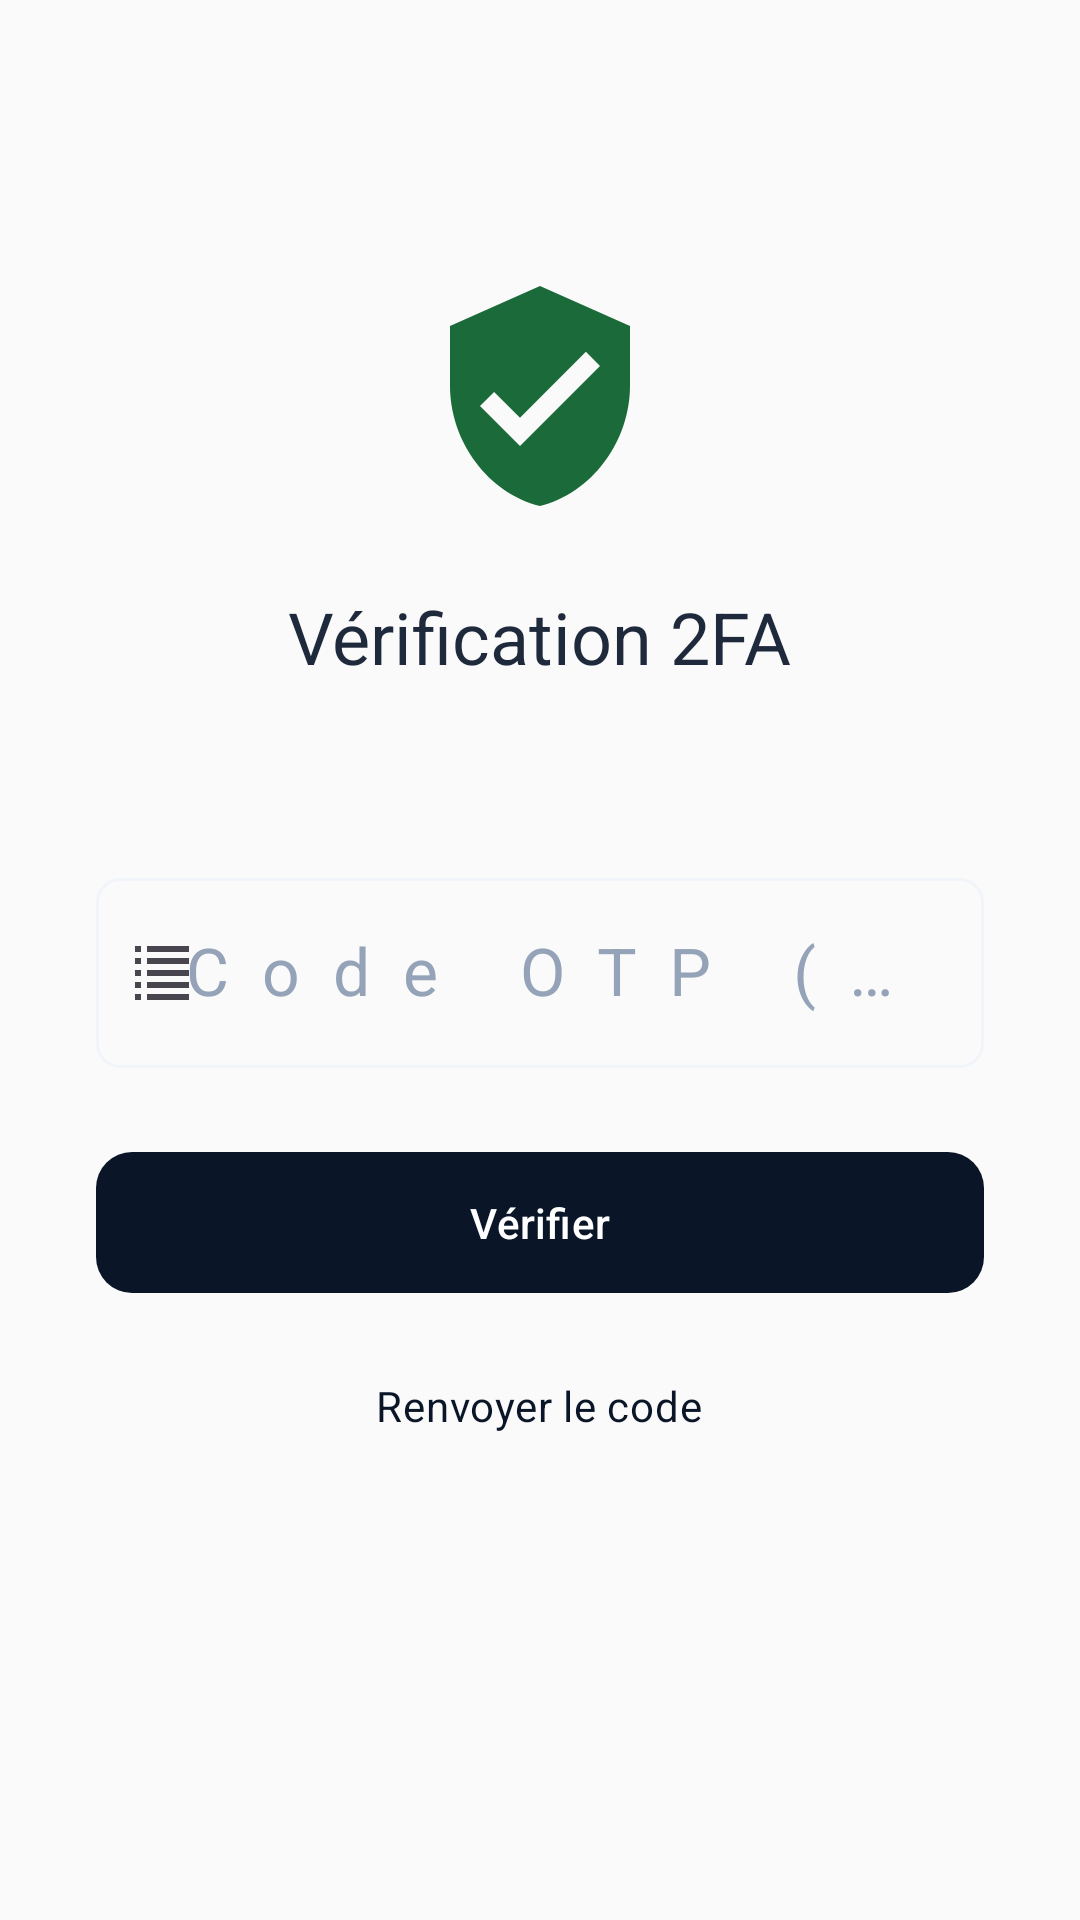

Icons on this 1080*1920 Android screen, each with its box as (x1, y1, x2, y2):
Sécurité: (450, 286, 630, 506)
